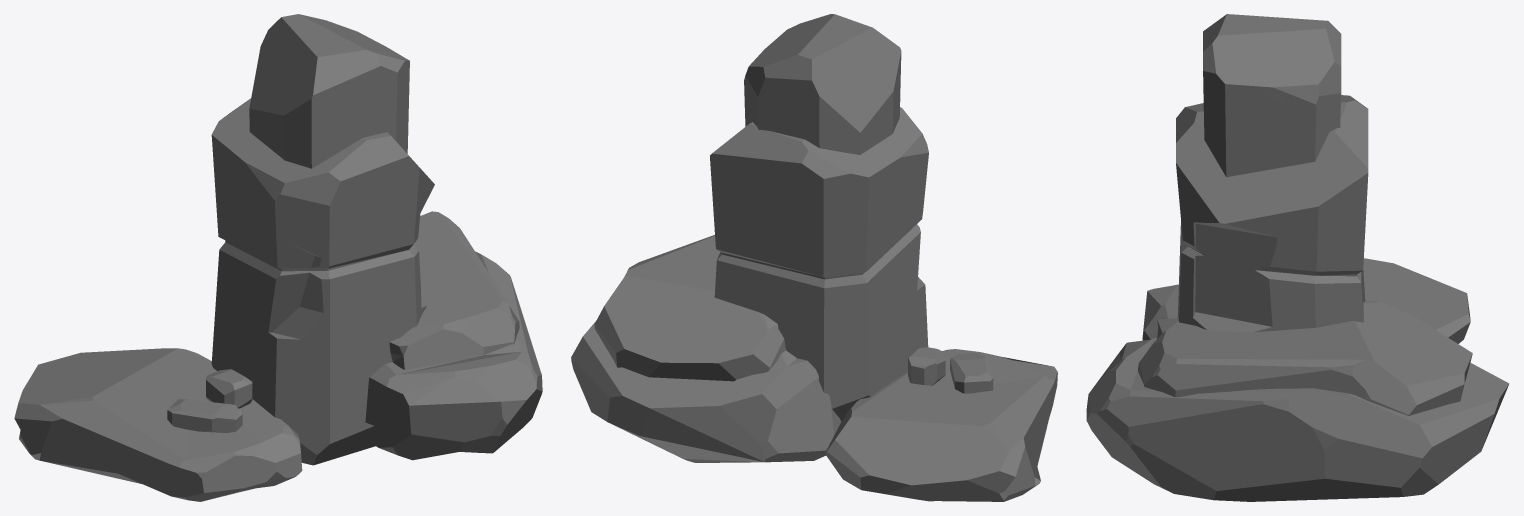
File: rocks_01.glb
3 views of the same model, side by side, from view 1: azimuth 30°, elevation 25°; view 2: azimuth 150°, elevation 25°; view 3: azimuth 270°, elevation 25° (orthographic). The views are drawn at different scales.
Parts seen in each view (by area): view 1: rocks_01; view 2: rocks_01; view 3: rocks_01.
Boxes of the visible parts, bbox=[...] form: rocks_01: bbox=[14, 14, 542, 501]; rocks_01: bbox=[571, 14, 1057, 501]; rocks_01: bbox=[1086, 14, 1509, 501].
Size of the model in its own units: 3.11 by 2.61 by 2.52.
Materials: 1 (1 with a texture image).
